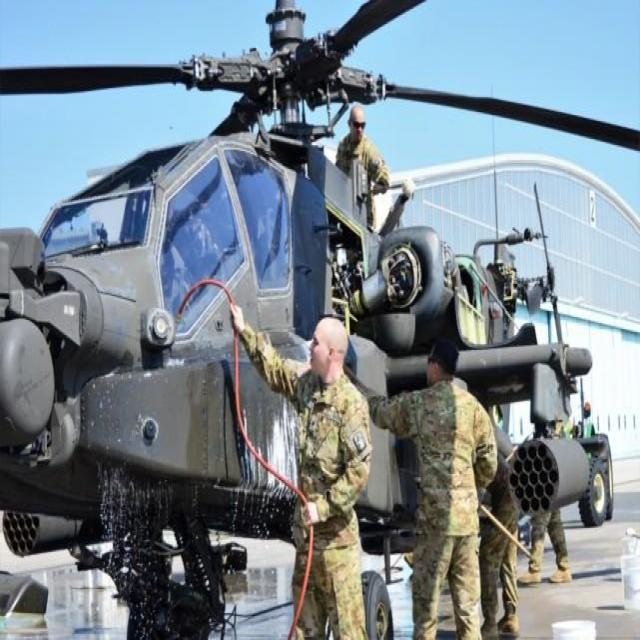MIL_HELO: (0, 1, 632, 613)
